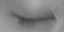LeftEyeFatigue: (6, 5, 64, 30)
